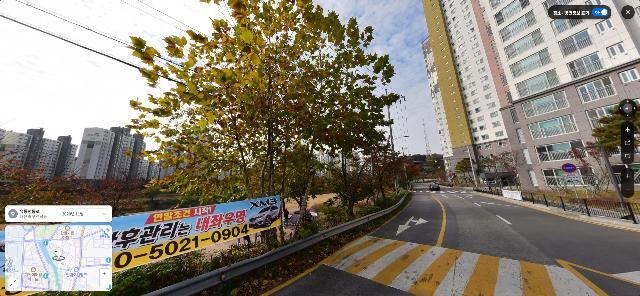other: (124, 0, 406, 249), (593, 93, 639, 210)
